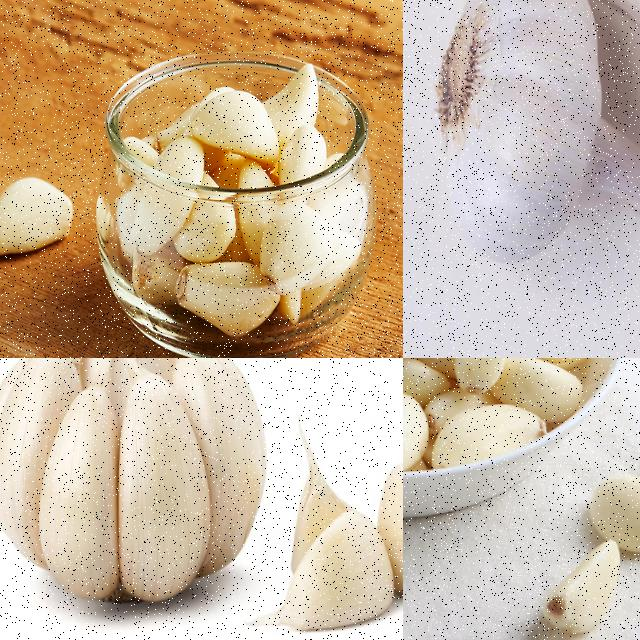garlic: (0, 358, 273, 607), (110, 70, 366, 334), (429, 0, 639, 267), (268, 433, 402, 633), (403, 358, 588, 481), (540, 540, 622, 638), (0, 177, 78, 263), (591, 474, 639, 553)
